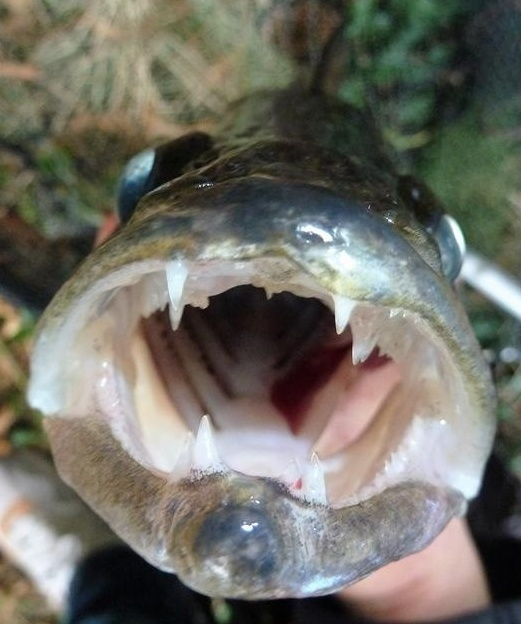Sander lucioperca: (20, 20, 501, 604)
